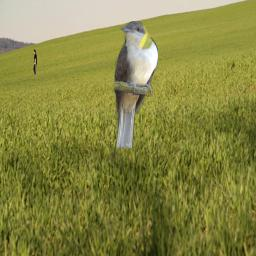Cuckoo: (112, 21, 158, 148)
